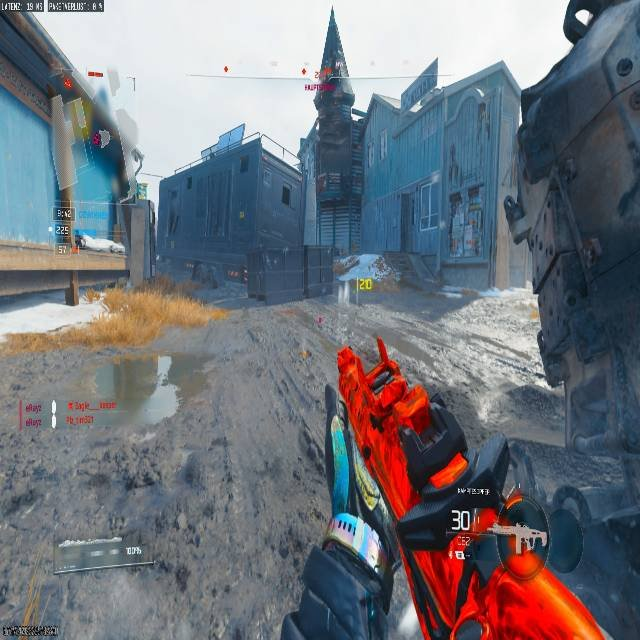head: (493, 499, 550, 576)
player: (452, 497, 623, 638), (372, 256, 386, 281), (239, 265, 248, 288), (74, 234, 84, 249)
